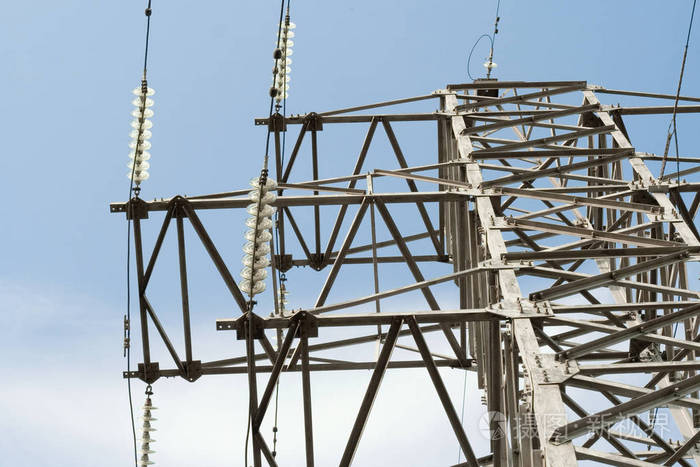insulator: (239, 174, 280, 297), (126, 88, 158, 183), (272, 20, 295, 102), (136, 404, 159, 467)
